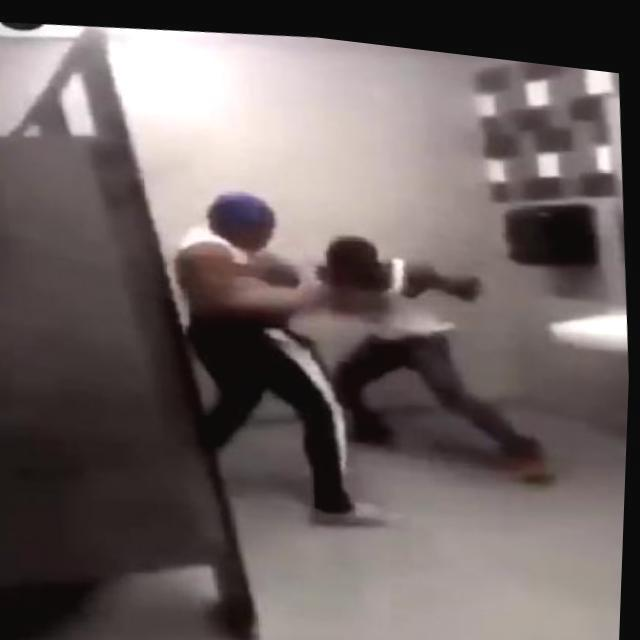fight: (161, 160, 558, 550)
